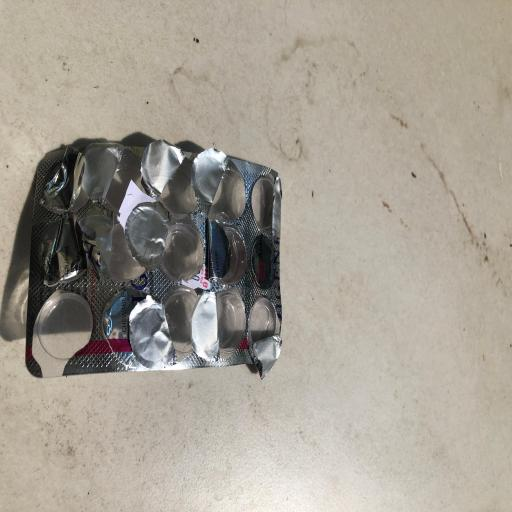waste: (20, 132, 290, 388)
